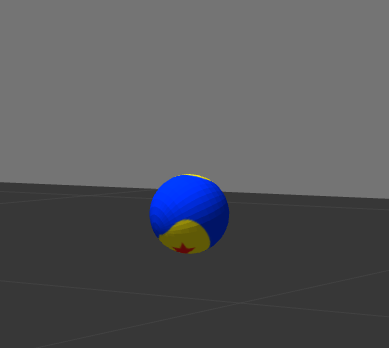toy story ball: (149, 174, 229, 254)
